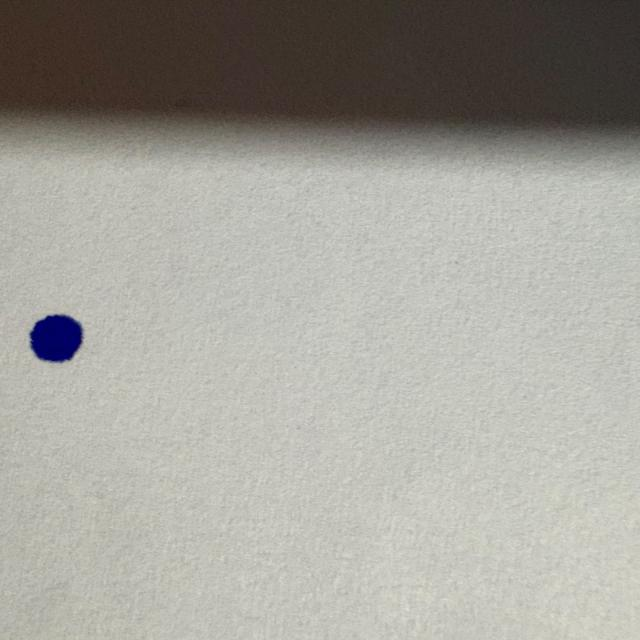Circle: (26, 309, 85, 368)
